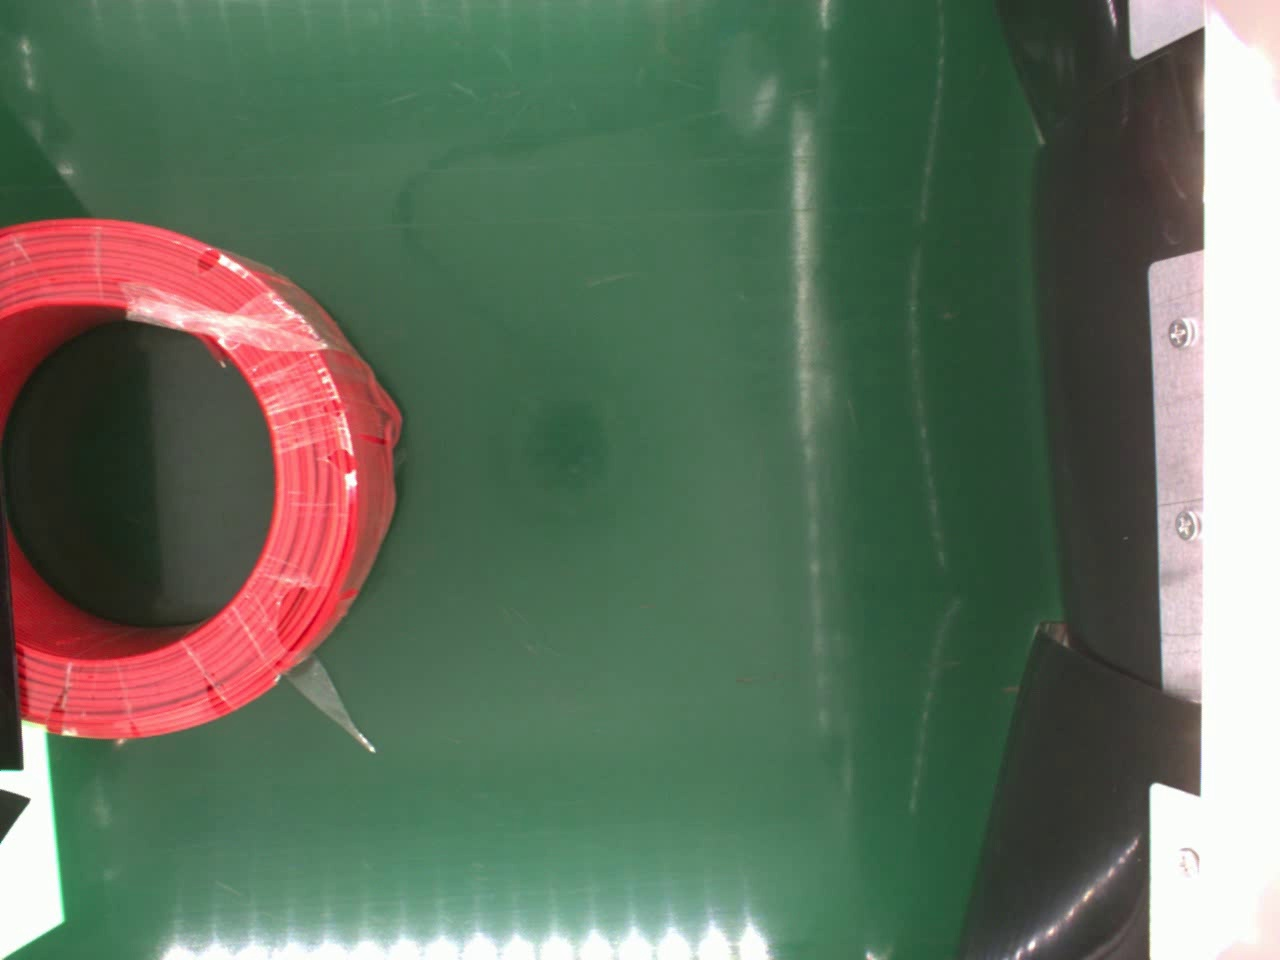red: (1, 214, 406, 745)
